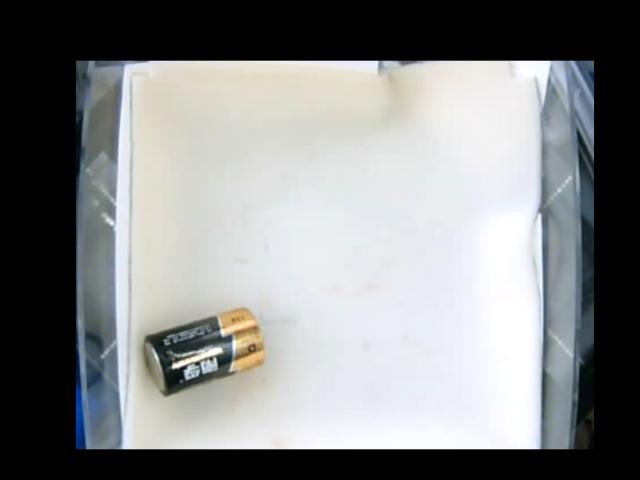Battery: (141, 305, 264, 394)
